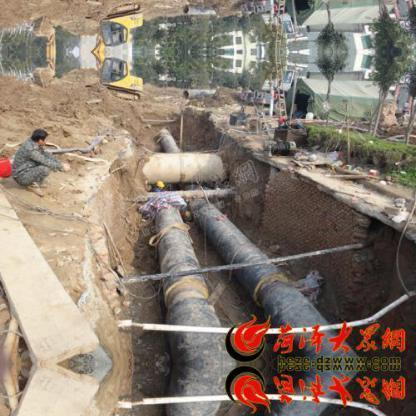helmet: (153, 178, 167, 191), (183, 208, 191, 220)
